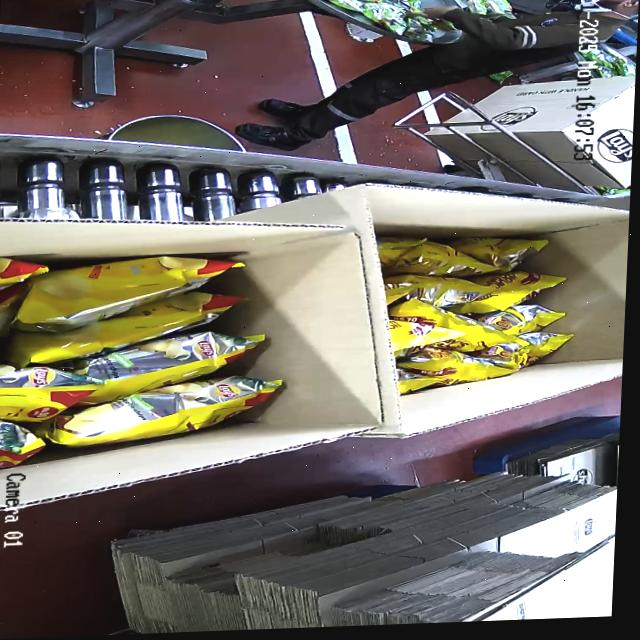SALTED: (0, 237, 301, 468), (391, 229, 581, 391)
